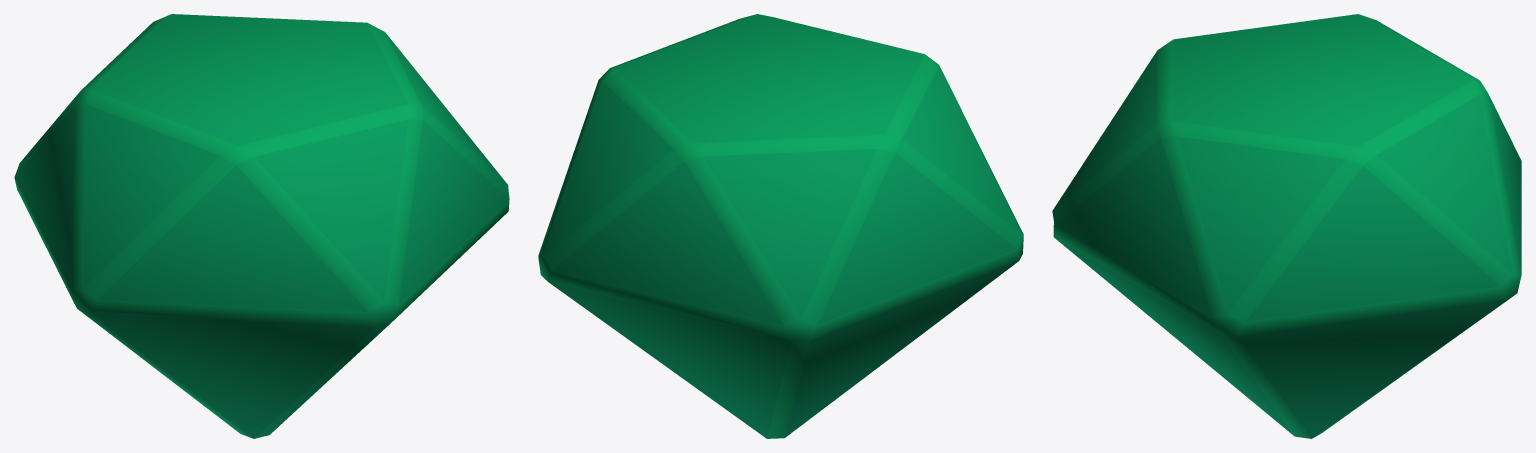
The model's file is diamond_green.glb.
3 views of the same model, side by side, from view 1: azimuth 30°, elevation 25°; view 2: azimuth 150°, elevation 25°; view 3: azimuth 270°, elevation 25° (orthographic).
Visible parts, largest first — view 1: diamond_green; view 2: diamond_green; view 3: diamond_green.
Part boxes in pixels (box(x1,y1,x2,y2)): diamond_green: box(14, 14, 509, 438); diamond_green: box(538, 14, 1023, 438); diamond_green: box(1052, 14, 1521, 438).
Bounding box in the file's own units: 1.08 × 0.8522 × 1.03.
1 material, 1 textured.
